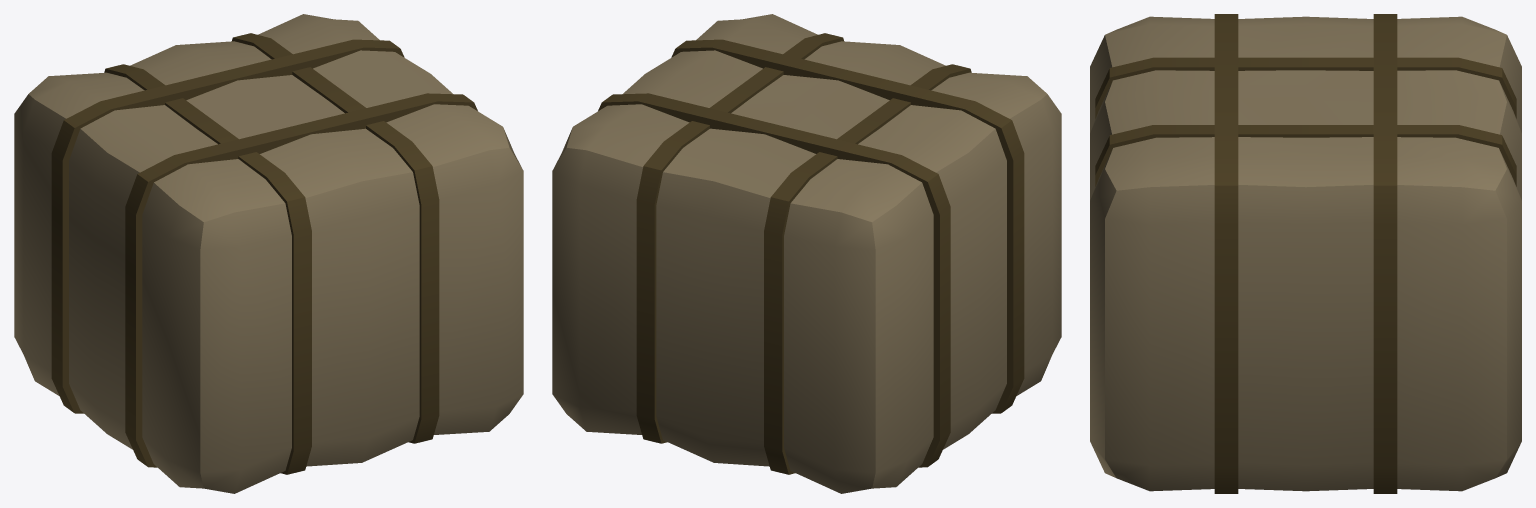
The model's file is Package_2.gltf.
3 views of the same model, side by side, from view 1: azimuth 30°, elevation 25°; view 2: azimuth 150°, elevation 25°; view 3: azimuth 270°, elevation 25° (orthographic). The views are drawn at different scales.
Visible parts, largest first — view 1: Package_2; view 2: Package_2; view 3: Package_2.
Part boxes in pixels (x1,y1,x2,y2): Package_2: (14, 14, 523, 493); Package_2: (552, 14, 1061, 493); Package_2: (1090, 14, 1521, 493).
Bounding box in the file's own units: 0.1897 × 0.158 × 0.1876.
